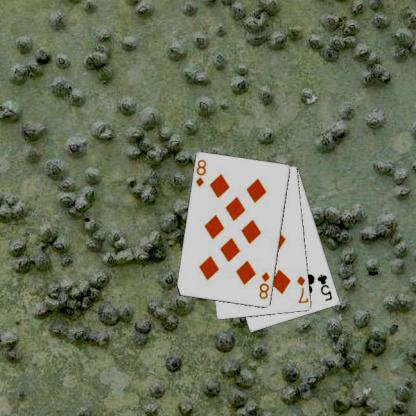5C: (314, 272, 334, 302)
7D: (294, 273, 308, 305)
8D: (256, 269, 271, 300), (193, 157, 208, 188)
